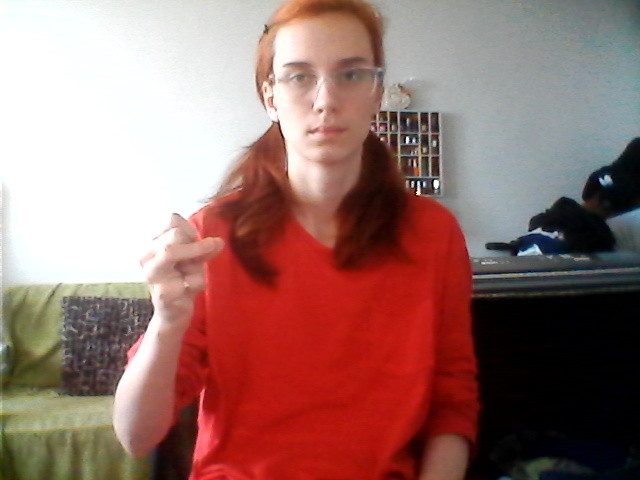r: (110, 205, 239, 330)
